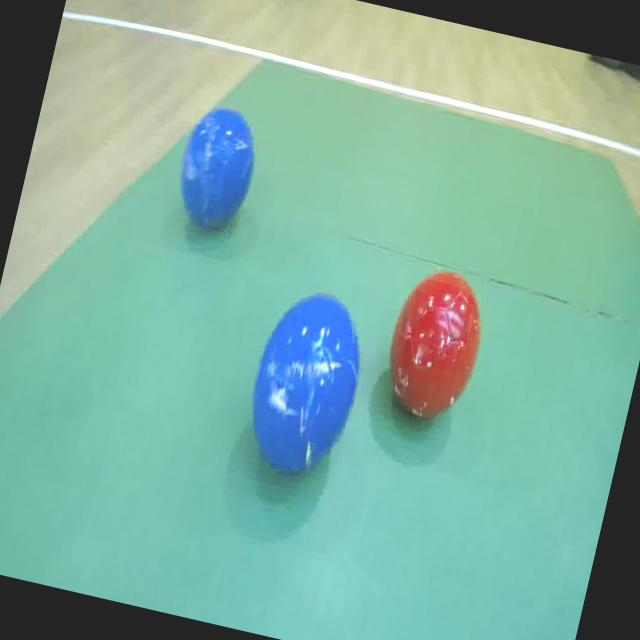blue_ball: (228, 280, 379, 498), (165, 98, 268, 244)
red_ball: (370, 257, 496, 435)
